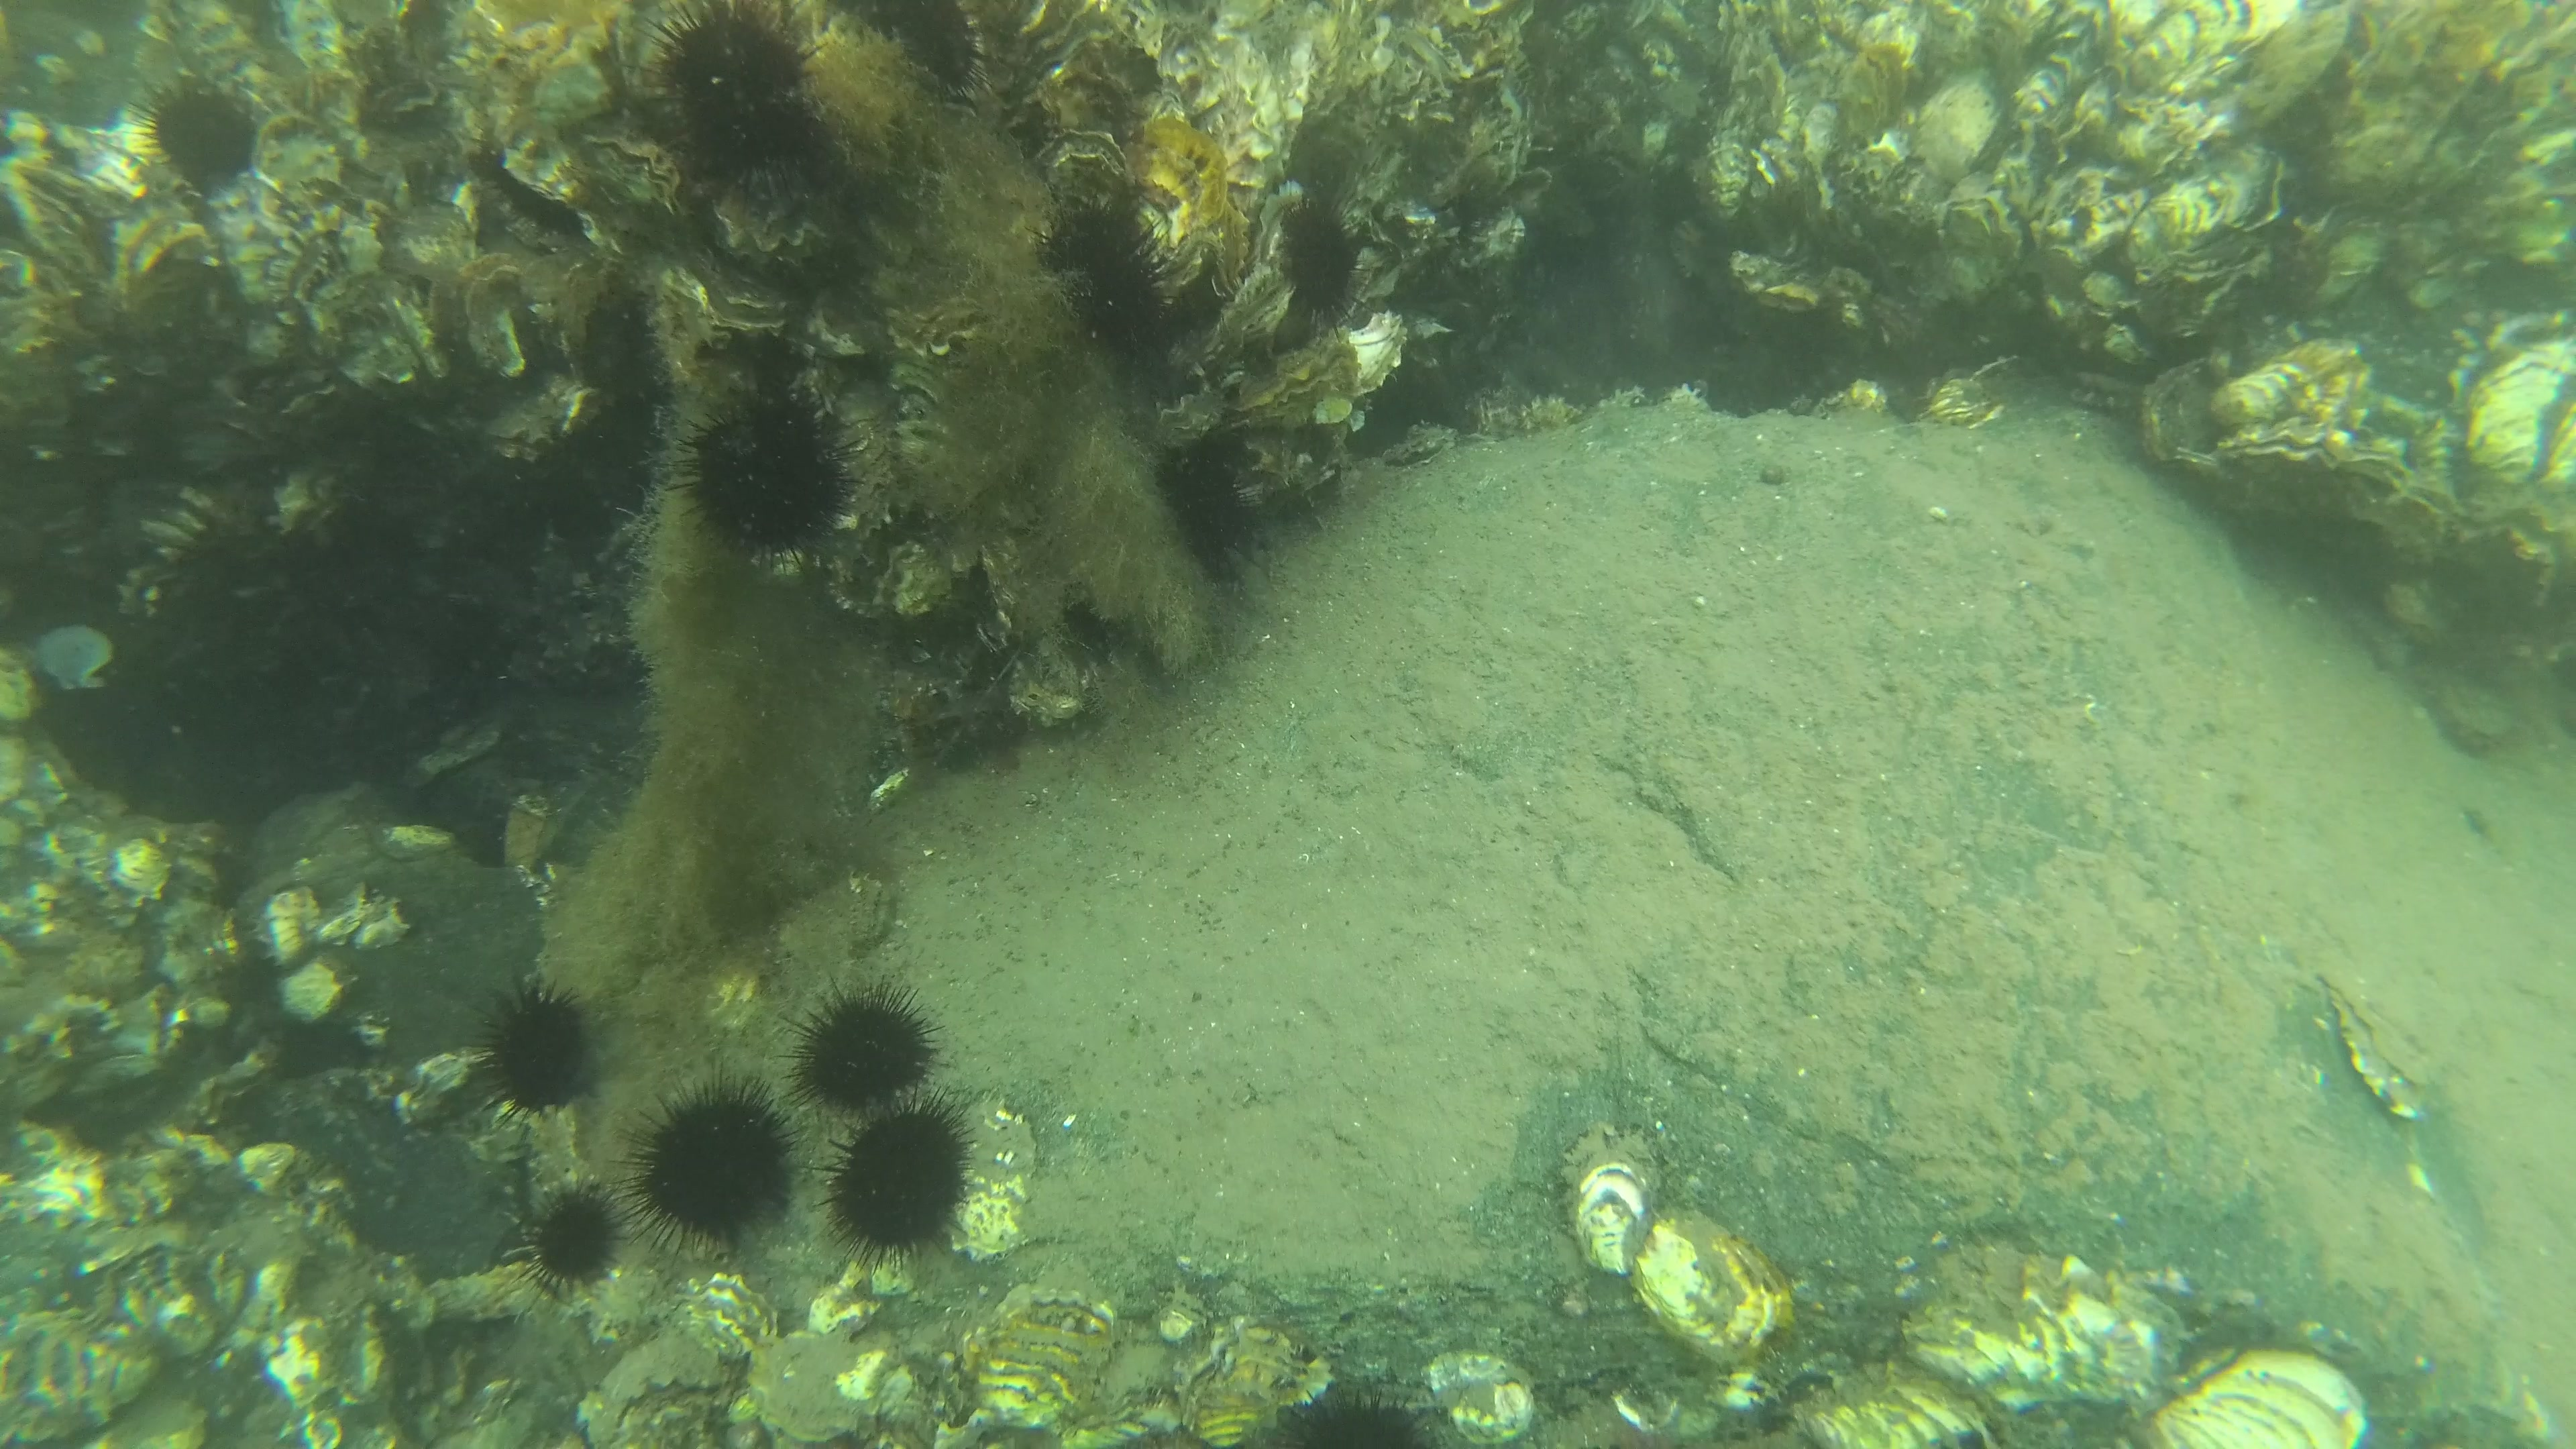echinus: (667, 379, 872, 570), (630, 1072, 805, 1265), (809, 1090, 980, 1277), (644, 2, 828, 172), (1026, 198, 1175, 347), (786, 980, 945, 1116), (467, 980, 600, 1131), (504, 1184, 633, 1307), (127, 78, 262, 188), (863, 0, 996, 103)
